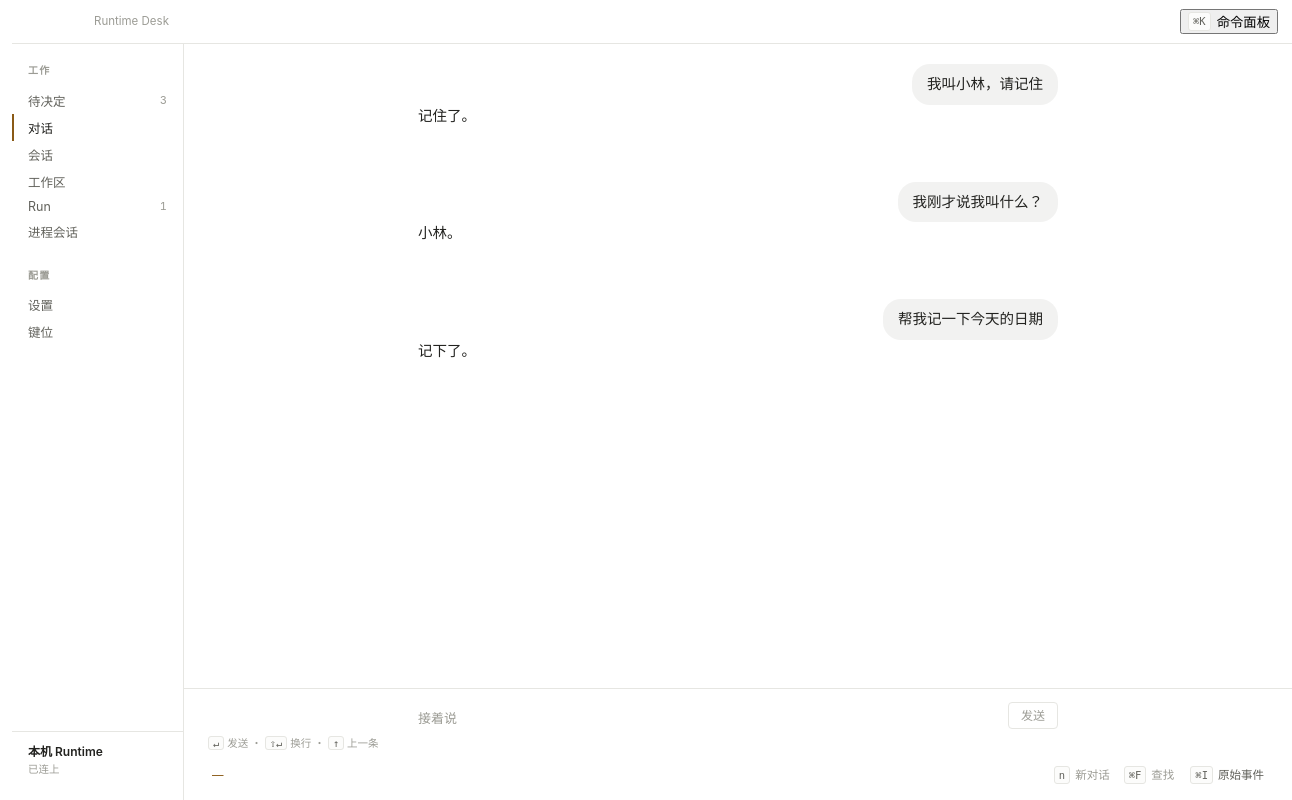
Test: the workspace surface › lists the folder and opens a file
The image size is (1292, 800).
Check: the button "对话" is shown, box [12,114,183,140]
Click the button "工作区" at (98, 181), box [12,168,183,194]
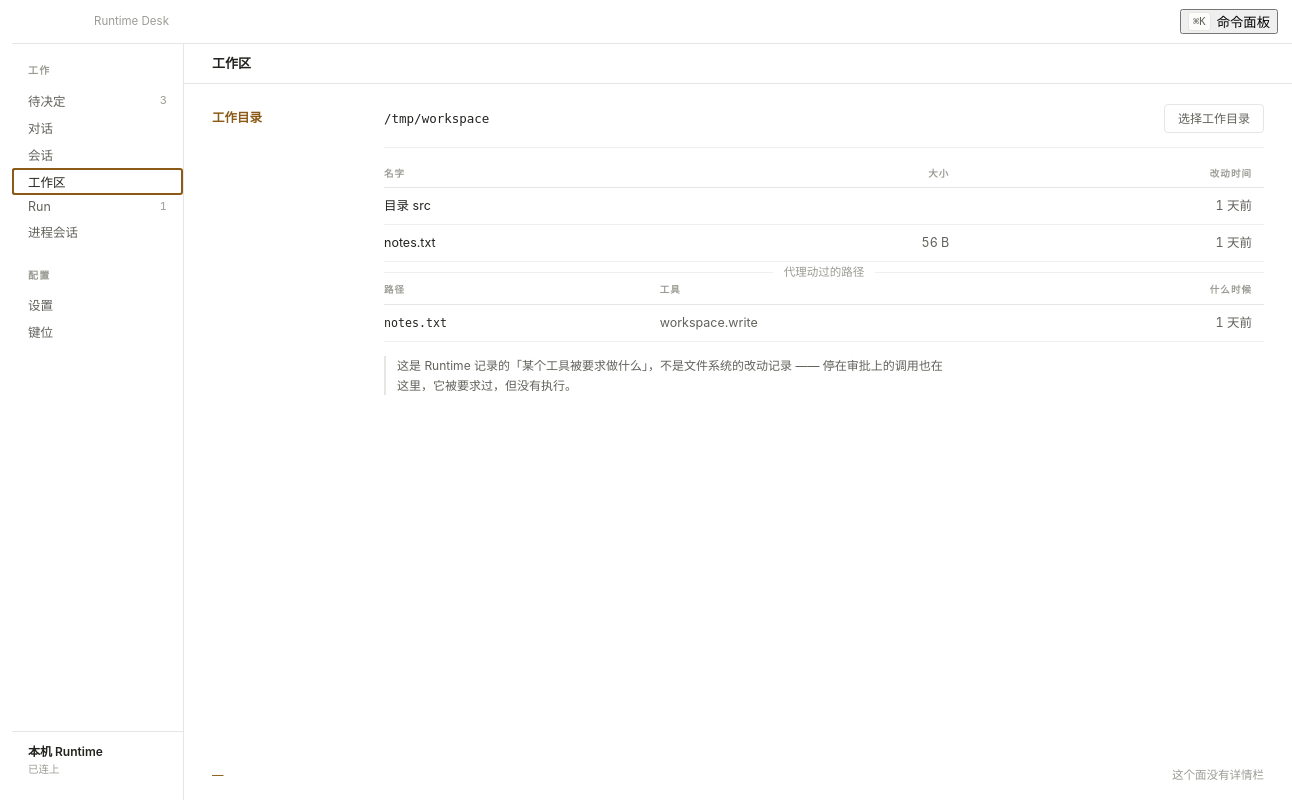
Check: the text "notes.txt" below "名字" is shown, box [384,235,436,250]
Check: the text "目录 src" is shown, box [384,188,739,225]
Click the text "notes.txt" below "名字" at (562, 243), box [384,225,739,262]
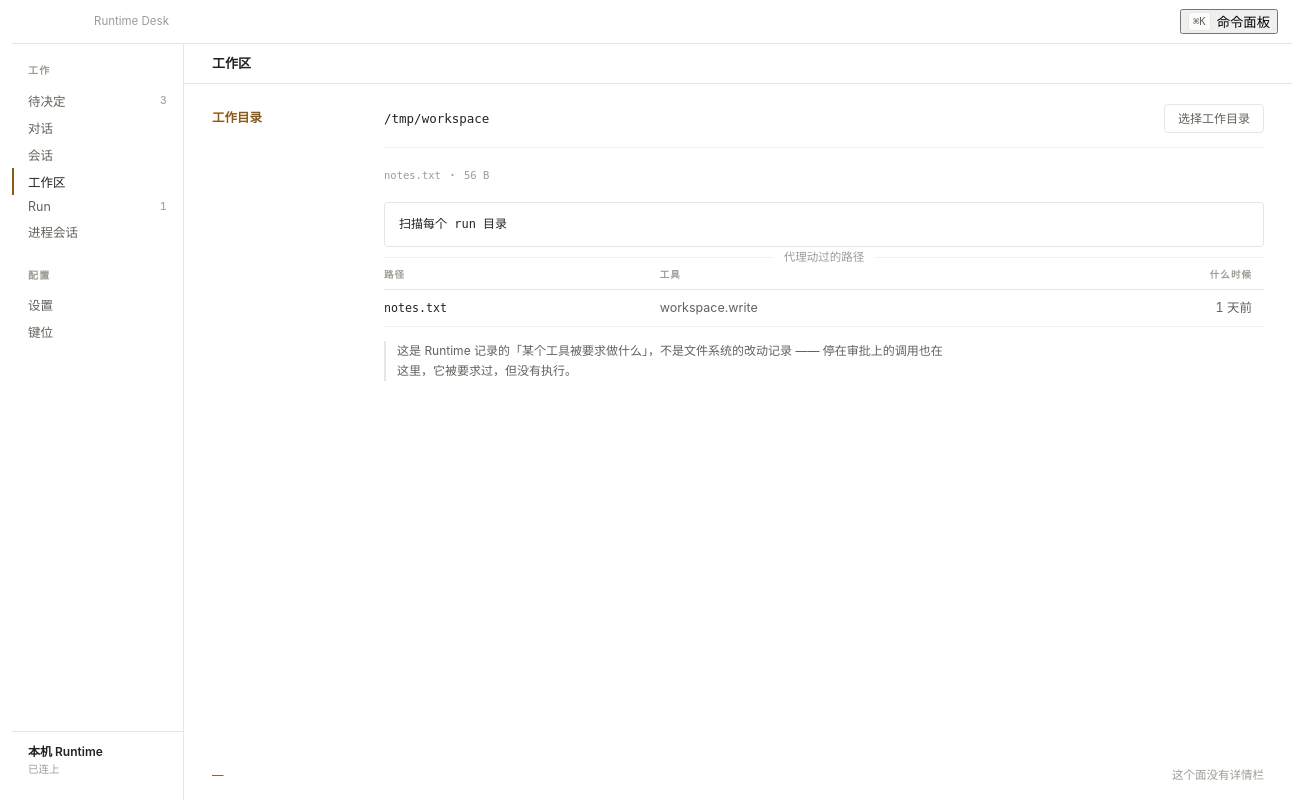
Check: the text "扫描每个 run 目录" is shown, box [384,202,1264,247]
